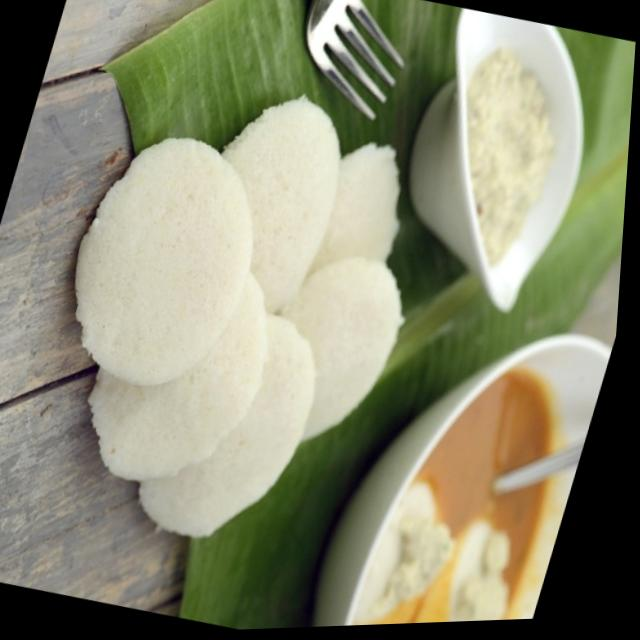IDLI: (76, 97, 399, 536)
WHITE CHUTNEY: (467, 49, 552, 266)
